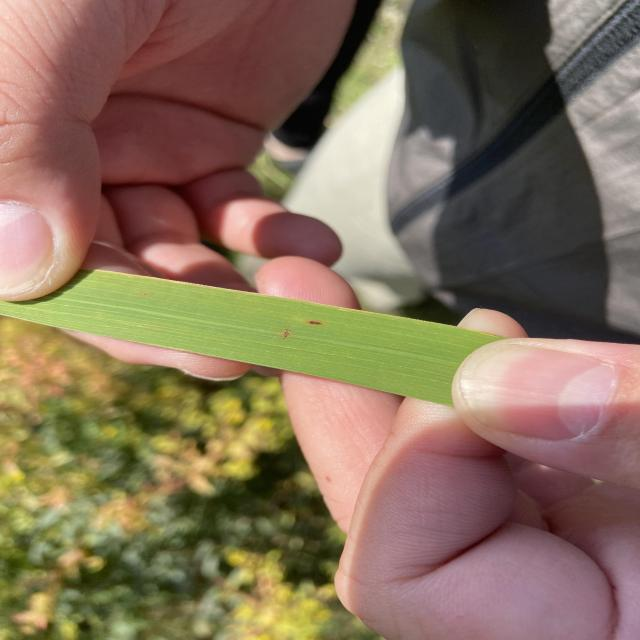Dom nau: (309, 321, 322, 325), (284, 332, 289, 337)
